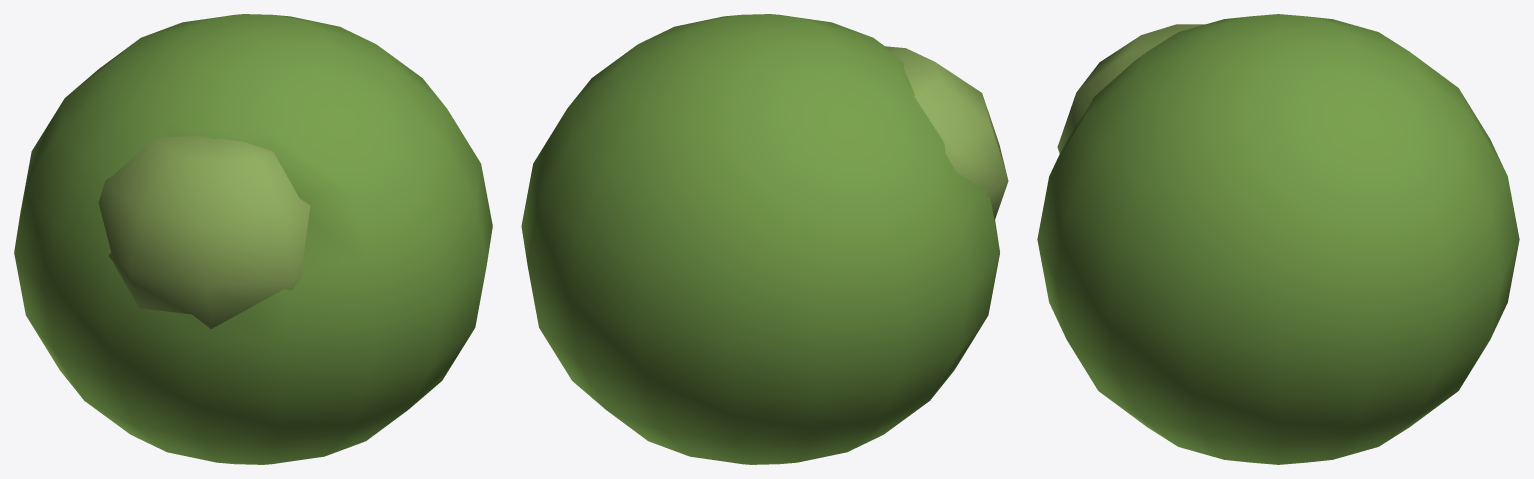
File: bush_round.glb
The picture shows the model from 3 angles, left to right: view 1: azimuth 30°, elevation 25°; view 2: azimuth 150°, elevation 25°; view 3: azimuth 270°, elevation 25°; orthographic projection.
Parts seen in each view (by area): view 1: bush_round; view 2: bush_round; view 3: bush_round.
Part boxes in pixels (x1,y1,x2,y2): bush_round: (14, 14, 492, 464); bush_round: (521, 14, 1008, 464); bush_round: (1037, 14, 1519, 464).
Bounding box in the file's own units: 0.6 × 0.56 × 0.6.
